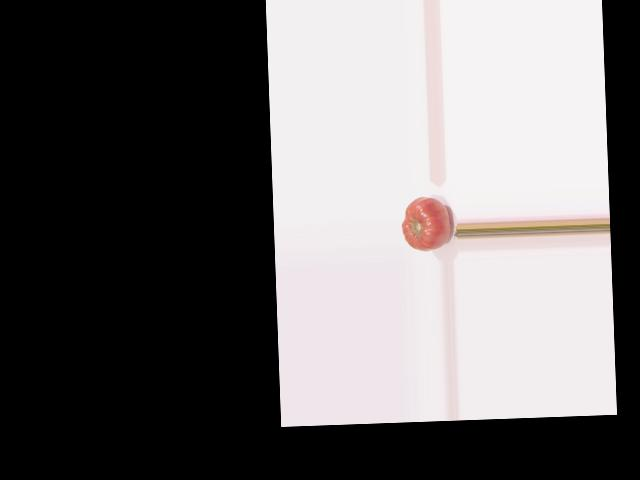tomato: (401, 196, 450, 251)
